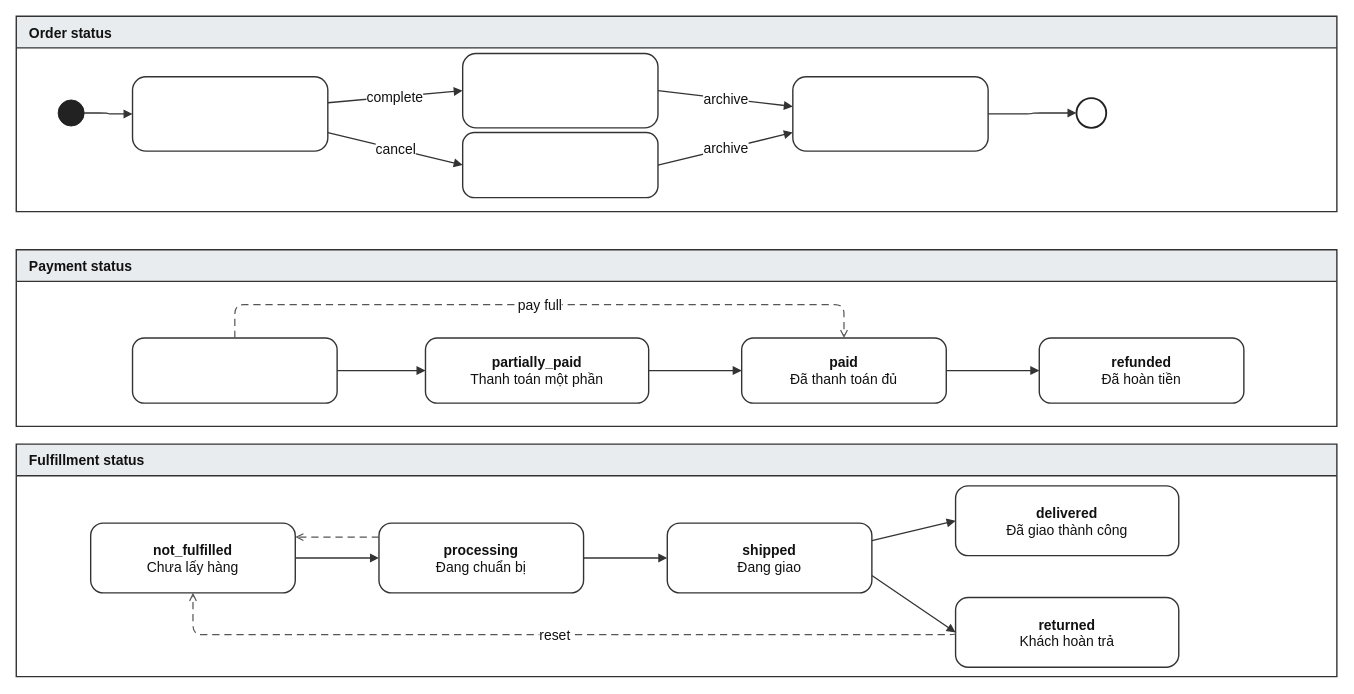
Image size: 1354x694. Some labels were removed from this diagram. Here are the shapes that lost their labels. From the top down, the centre of each, then its label:
At (x=560, y=90): "completed Hoàn thành".
At (x=229, y=113): "pending Đơn mới tạo".
At (x=890, y=113): "archived Lưu trữ".
At (x=560, y=164): "canceled Đã hủy".
At (x=234, y=370): "not_paid Chưa thanh toán".
